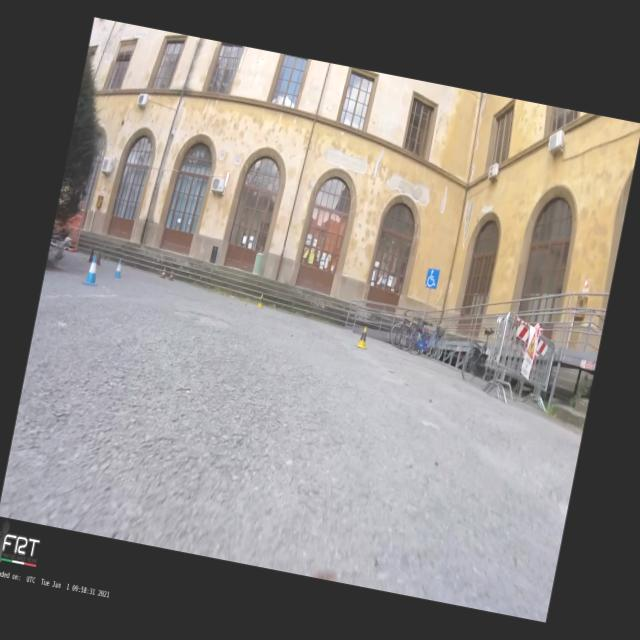blue_cone: (81, 252, 104, 286), (112, 258, 124, 279)
large_orange_cone: (159, 266, 167, 279), (168, 269, 175, 281)
unknown_cone: (86, 247, 94, 263), (96, 254, 102, 266)
yellow_cone: (354, 324, 372, 350), (256, 294, 266, 308)
